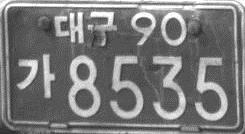0: (158, 11, 188, 47)
3: (150, 54, 187, 121)
5: (108, 53, 145, 120), (193, 55, 229, 122)
8: (67, 53, 102, 118)
9: (129, 11, 157, 47)
가: (15, 53, 56, 99)
대구_O: (53, 9, 119, 47)
